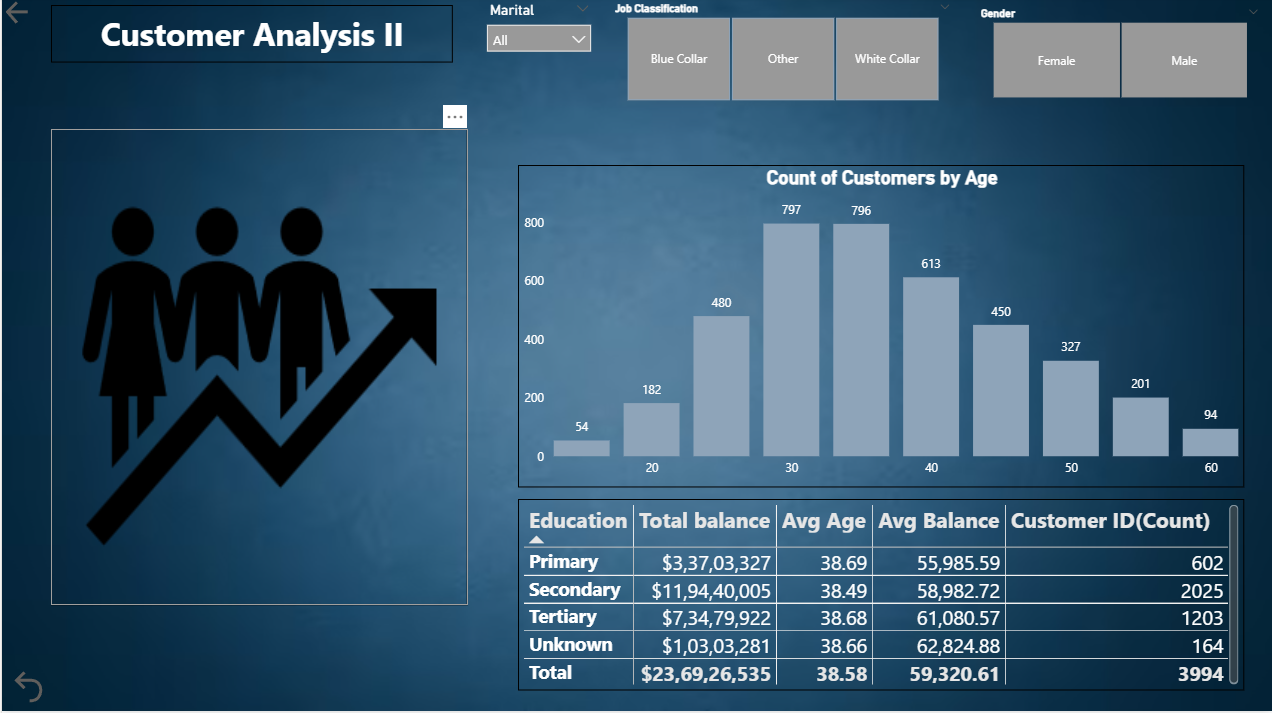

The page's visual inventory and layout, read from the dashboard file:
{"tool":"powerbi","page":{"name":"CAI_2","canvas":[1280,720],"ordinal":4},"visuals":[{"type":"image","box":[49.7,133,420.3,479.7],"z":0},{"type":"clusteredColumnChart","title":"Count of Customers by Age","fields":{"Y":["CountNonNull(Bank data.Customer ID)"],"Category":["Bank data.Age (bins)"]},"box":[520,168.9,732.3,324.5],"z":1000},{"type":"pivotTable","fields":{"Rows":["Bank data.Education"],"Values":["Measure.Total balance","Measure.Avg Age","Measure.Avg Balance","CountNonNull(Bank data.Customer ID)"]},"box":[520,505.5,732.3,193],"z":2000},{"type":"slicer","fields":{"Values":["Bank data.Job Classification"]},"box":[604.4,0,363.1,111],"z":3000},{"type":"slicer","fields":{"Values":["Bank data.Gender"]},"box":[973.8,4.9,305.2,102.5],"z":4000},{"type":"slicer","fields":{"Values":["Bank data.marital"]},"box":[479,0,125.5,111],"z":5000},{"type":"textbox","box":[49.5,8.4,405.4,57.9],"z":6000},{"type":"actionButton","box":[0,0,32.6,31.4],"z":7000},{"type":"actionButton","box":[6.2,673,41.7,43.4],"z":8000}]}

Visuals, with their boxes in screenshot pixels (x1, y1, x2, y2), scaled from the page's 1280x720 canvas onto the 1272x713 screenshot:
image: BBox(49, 132, 467, 607)
"Count of Customers by Age" clusteredColumnChart: BBox(517, 167, 1244, 489)
pivotTable - Bank data.Education x Measure.Total balance: BBox(517, 501, 1244, 692)
slicer - Bank data.Job Classification: BBox(601, 0, 961, 110)
slicer - Bank data.Gender: BBox(968, 5, 1271, 106)
slicer - Bank data.marital: BBox(476, 0, 601, 110)
textbox: BBox(49, 8, 452, 66)
actionButton: BBox(0, 0, 32, 31)
actionButton: BBox(6, 666, 48, 709)
